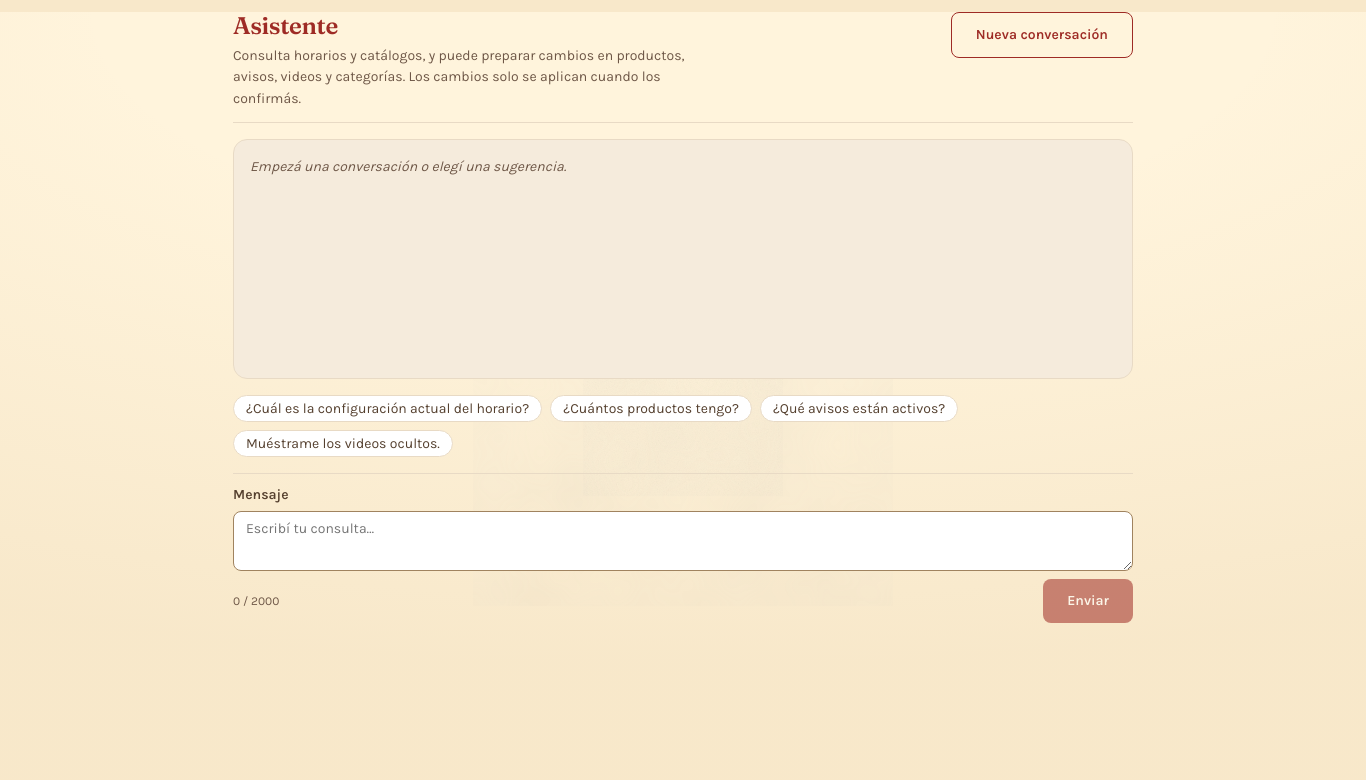
it: AssistantChat › muestra un error cuando el proveedor falla
Expected: the heading "Asistente" is shown, x1=233 y1=11 x2=338 y2=40
Type "Hola" into the text box labelled "Mensaje" at (683,541), box x1=233 y1=511 x2=1133 y2=571
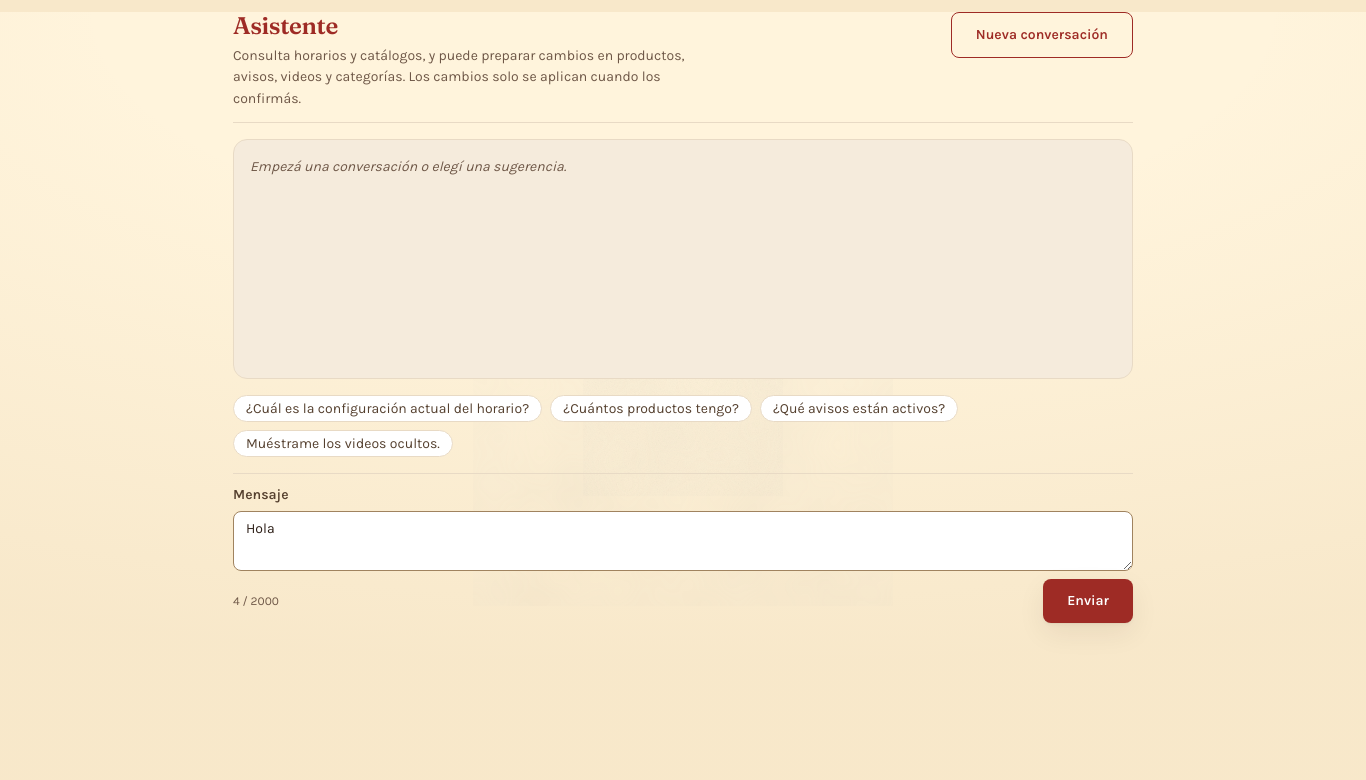
Click the button "Enviar" at (1088,601), box x1=1043 y1=579 x2=1133 y2=623
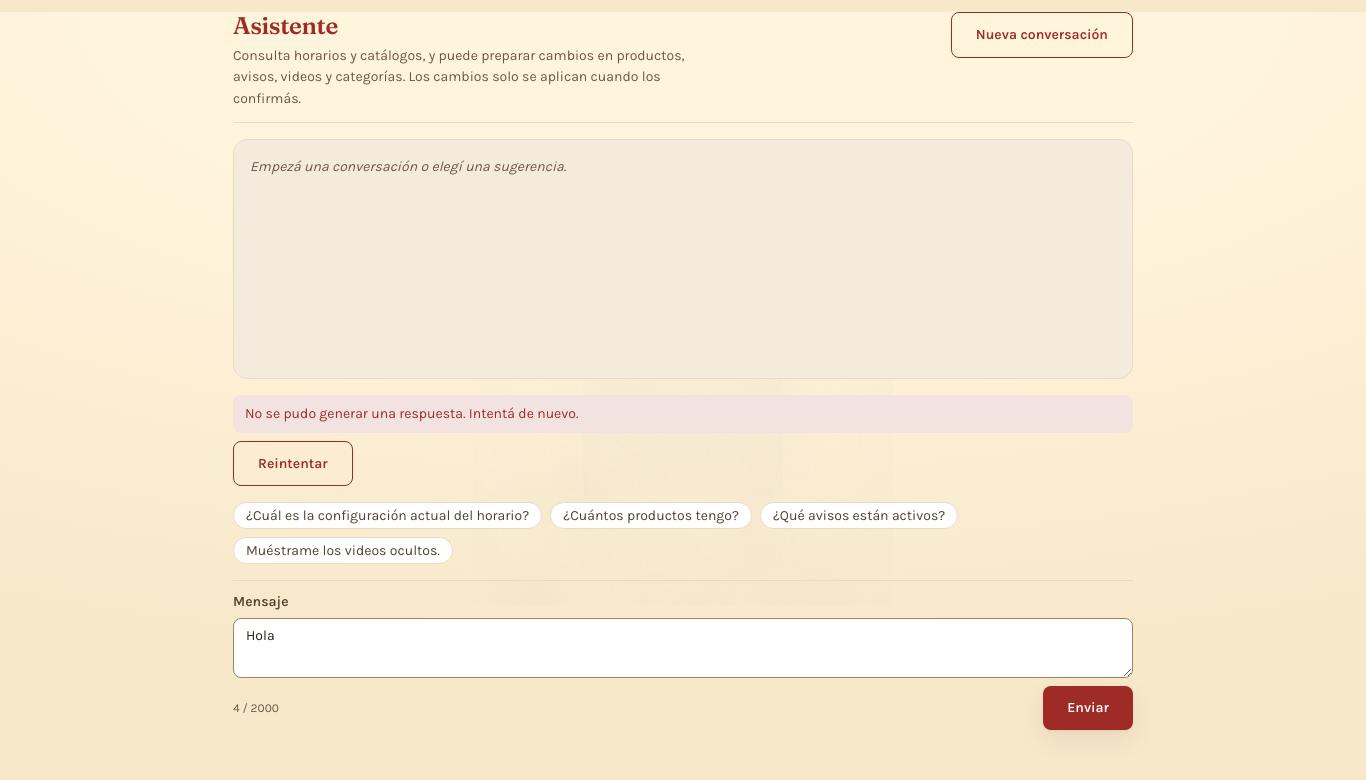
Now the text "No se pudo generar una respuesta. Intentá de nuevo." is shown, box x1=233 y1=395 x2=1133 y2=433
